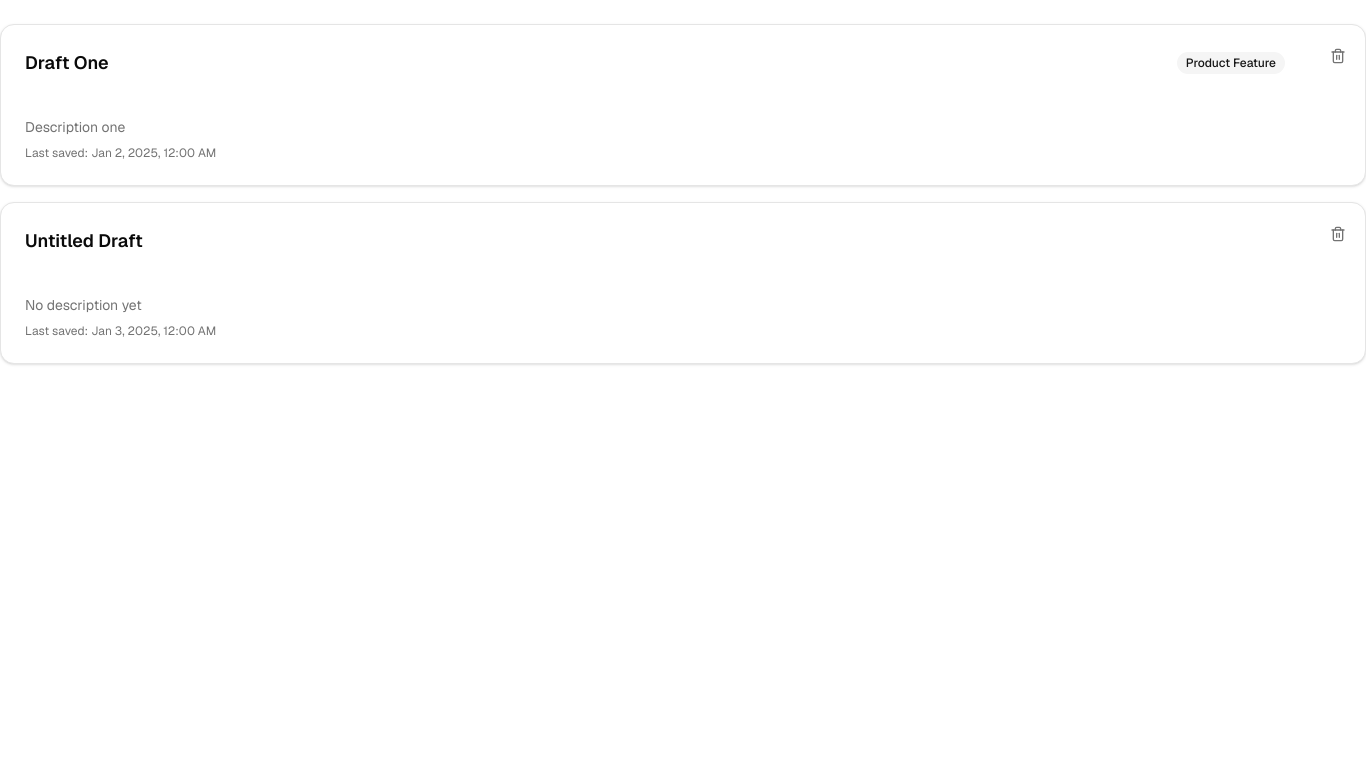
Test: DraftListClient › shows AlertDialog on delete button click
Click the button named "delete" next to "Product Feature".
click(1338, 56)  # box x1=1322 y1=40 x2=1354 y2=72
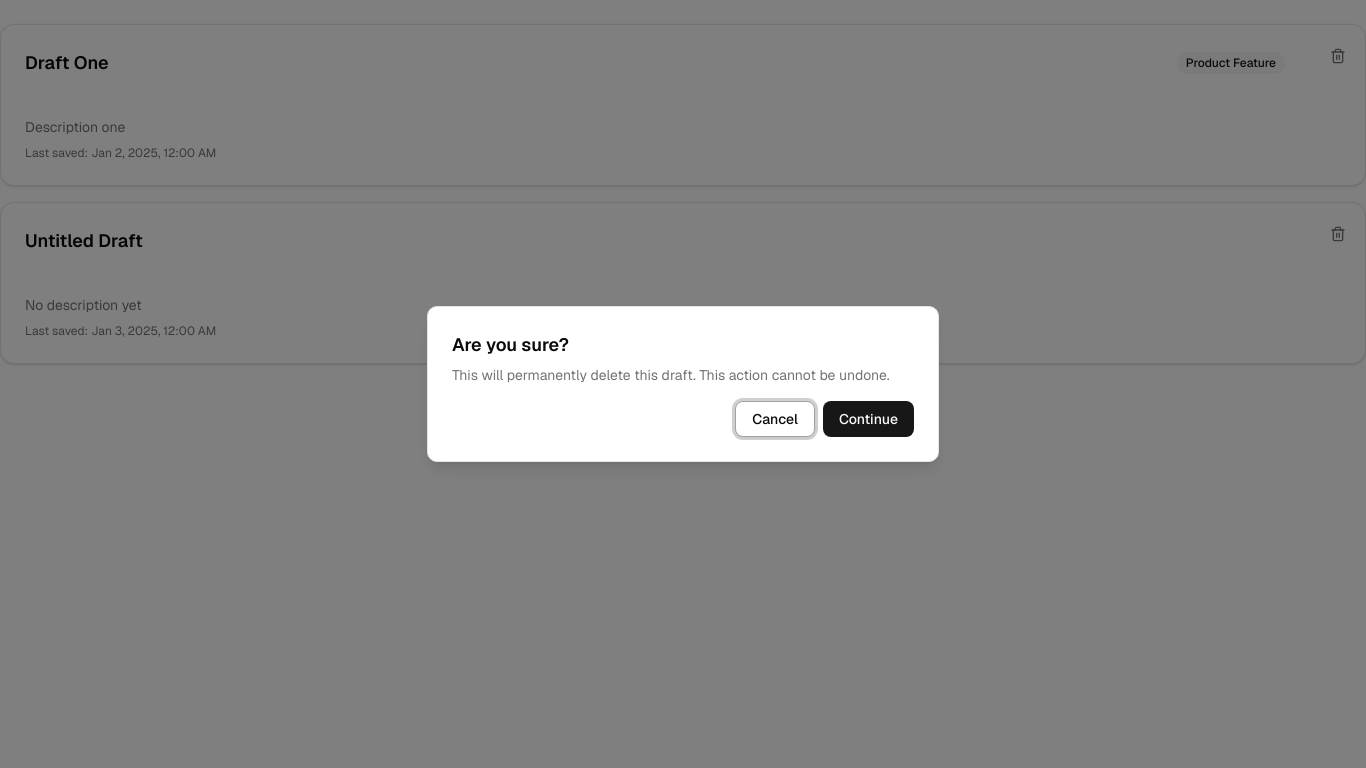
Expected: the heading "Are you sure?" is shown, x1=452 y1=331 x2=569 y2=359
Expected: the button "Cancel" is shown, x1=735 y1=401 x2=815 y2=437
Expected: the button "Continue" is shown, x1=823 y1=401 x2=914 y2=437
